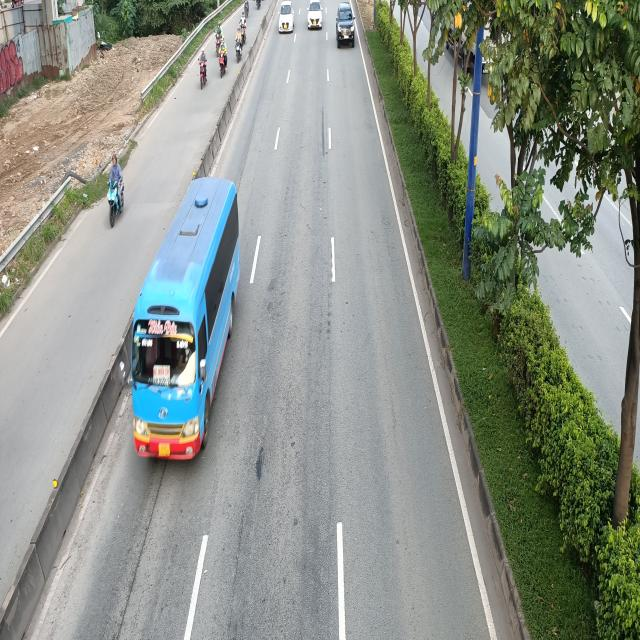car: (336, 3, 356, 47), (278, 0, 295, 32), (307, 0, 324, 29)
coach: (124, 174, 241, 460)
